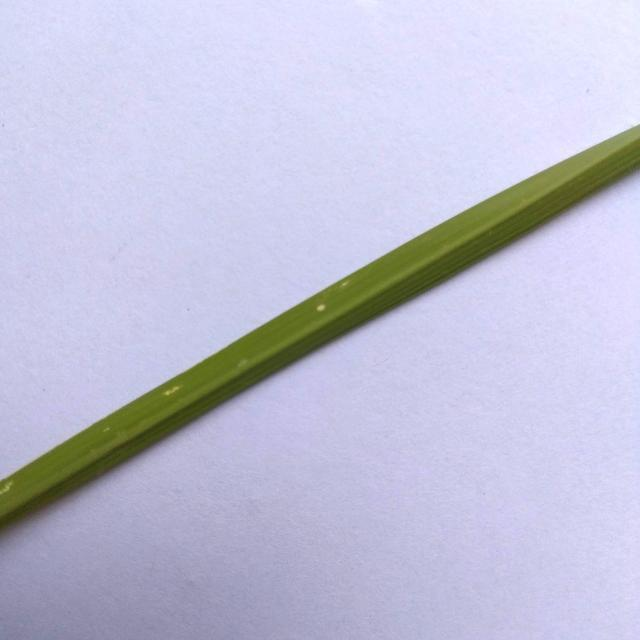Blast: (161, 382, 180, 399), (312, 300, 330, 312)
